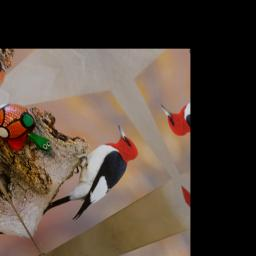Woodpecker: (17, 122, 158, 232)
